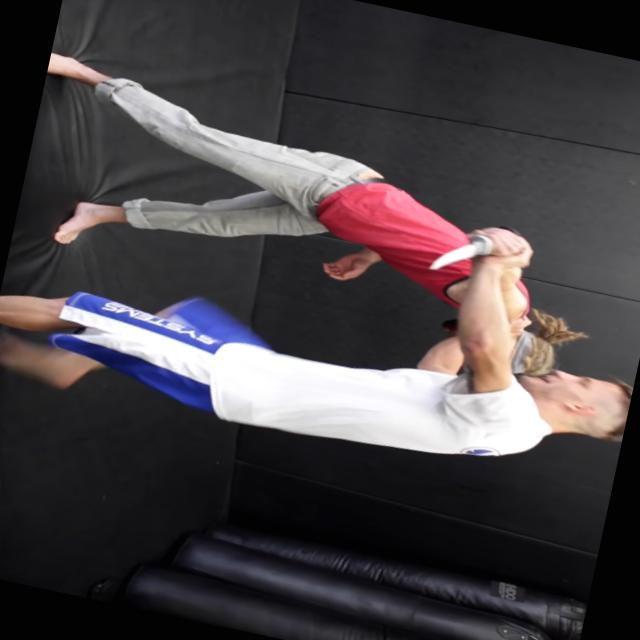knife: (418, 208, 528, 291)
